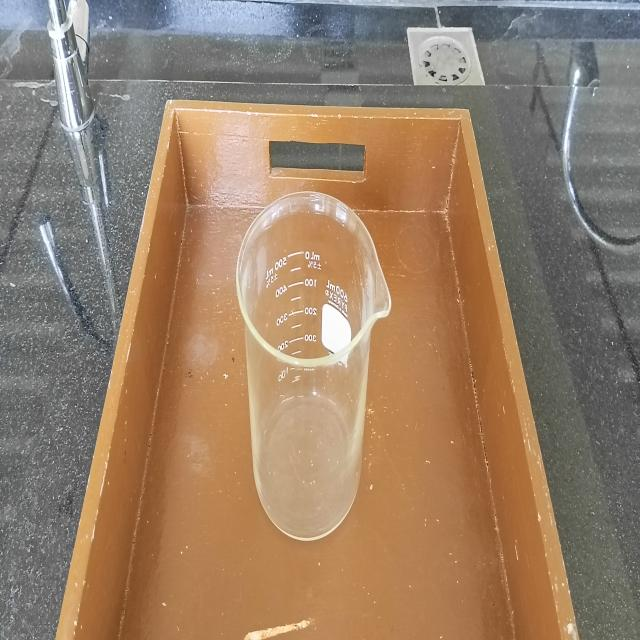beaker: (233, 185, 396, 547)
